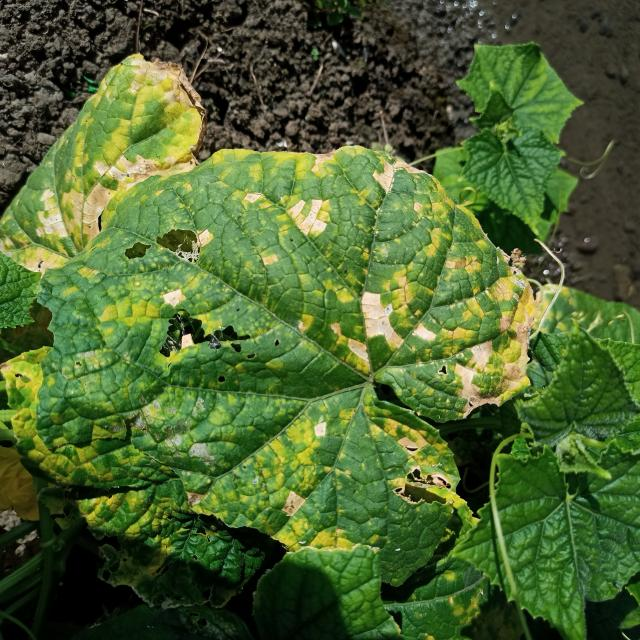disease_cucumber: (44, 150, 530, 570), (8, 76, 211, 271)
